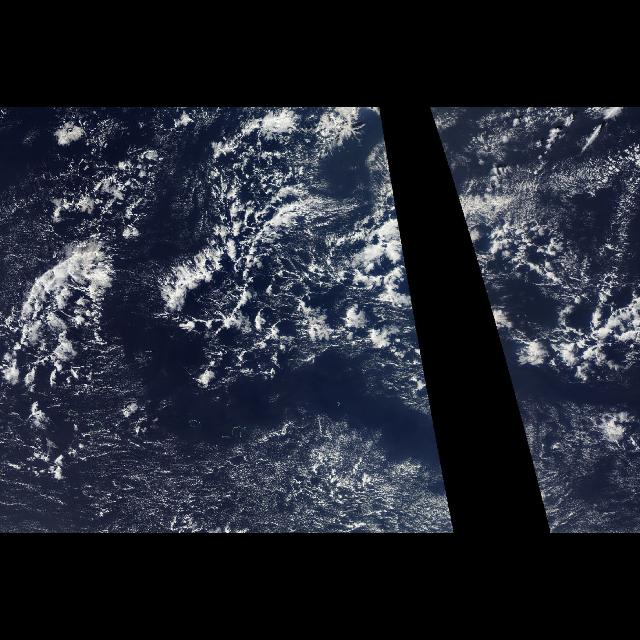Gravel: (9, 155, 375, 363)
Sugar: (101, 425, 429, 533)
